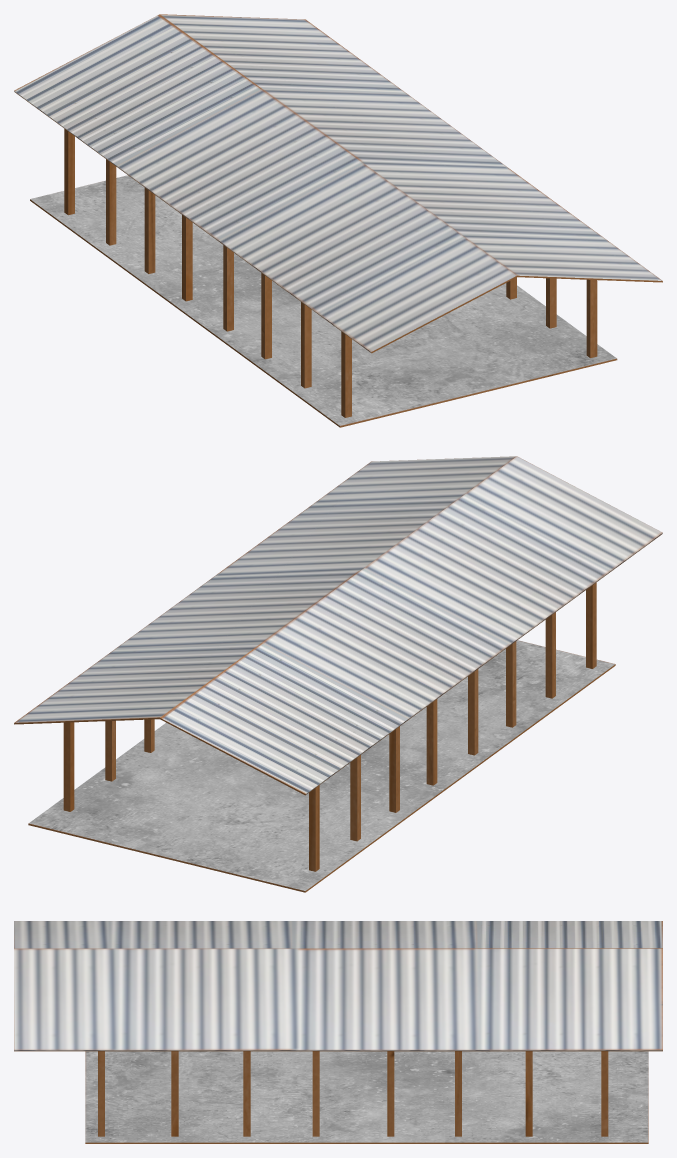
The model's file is techado.gltf.
3 views of the same model, one above another, from view 1: azimuth 30°, elevation 25°; view 2: azimuth 150°, elevation 25°; view 3: azimuth 270°, elevation 25° (orthographic). The views are drawn at different scales.
Parts seen in each view (by area): view 1: Cube.027; view 2: Cube.027; view 3: Cube.027.
Part boxes in pixels (x1,y1,x2,y2): Cube.027: (14,14,662,427); Cube.027: (14,456,662,892); Cube.027: (14,921,662,1143).
Bounding box in the file's own units: 86.6 × 41.74 × 184.
Materials: 1 (1 with a texture image).
